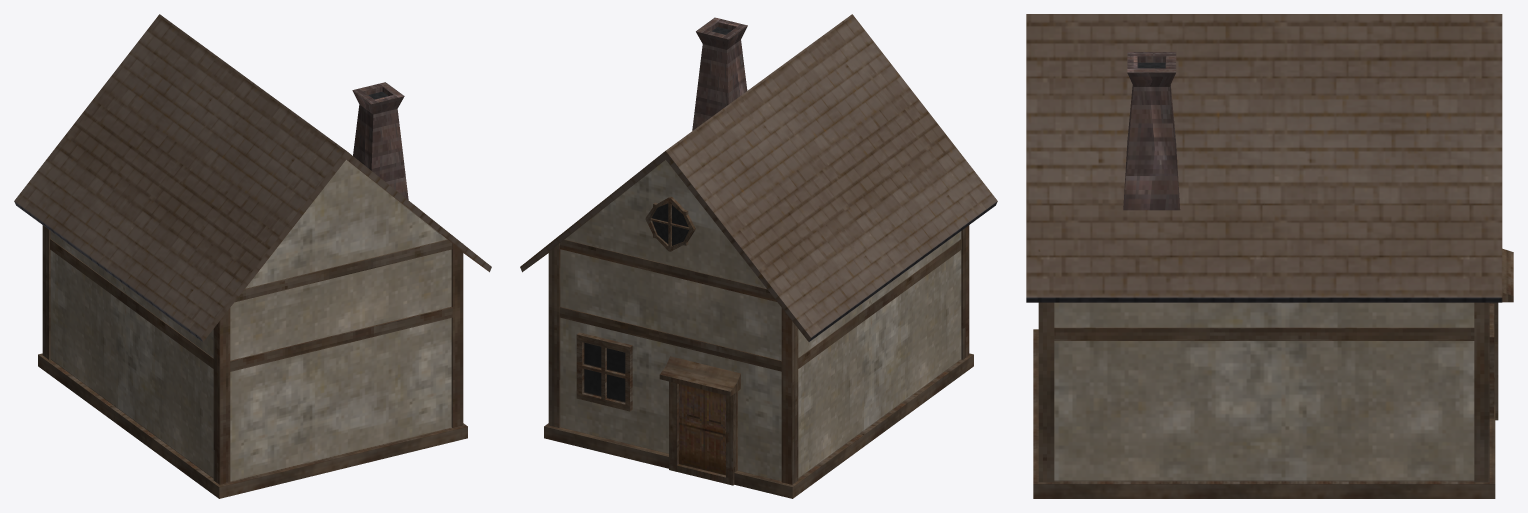
Rendered from House2.fbx.
The picture shows the model from 3 angles, left to right: view 1: azimuth 30°, elevation 25°; view 2: azimuth 150°, elevation 25°; view 3: azimuth 270°, elevation 25°; orthographic projection. The views are drawn at different scales.
Visible parts, largest first — view 1: House, Wood Beams.002, Chimney; view 2: House, Wood Beams.002, Door, Chimney, Square Window, Circle Window; view 3: House, Wood Beams.002, Chimney, Door, Square Window.
Part boxes in pixels (x1,y1,x2,y2): House: (14, 14, 491, 498); Wood Beams.002: (42, 225, 463, 484); Chimney: (352, 82, 408, 199); House: (520, 14, 997, 498); Wood Beams.002: (548, 225, 969, 484); Door: (659, 356, 740, 485); Chimney: (692, 17, 747, 130); Square Window: (576, 332, 632, 411); Circle Window: (645, 196, 695, 251); House: (1026, 14, 1502, 498); Wood Beams.002: (1038, 249, 1489, 482); Chimney: (1123, 52, 1180, 210); Door: (1489, 248, 1513, 420); Square Window: (1489, 303, 1494, 418).
Size of the model in its own units: 179 by 189 by 203.
6 materials, 6 textured.
